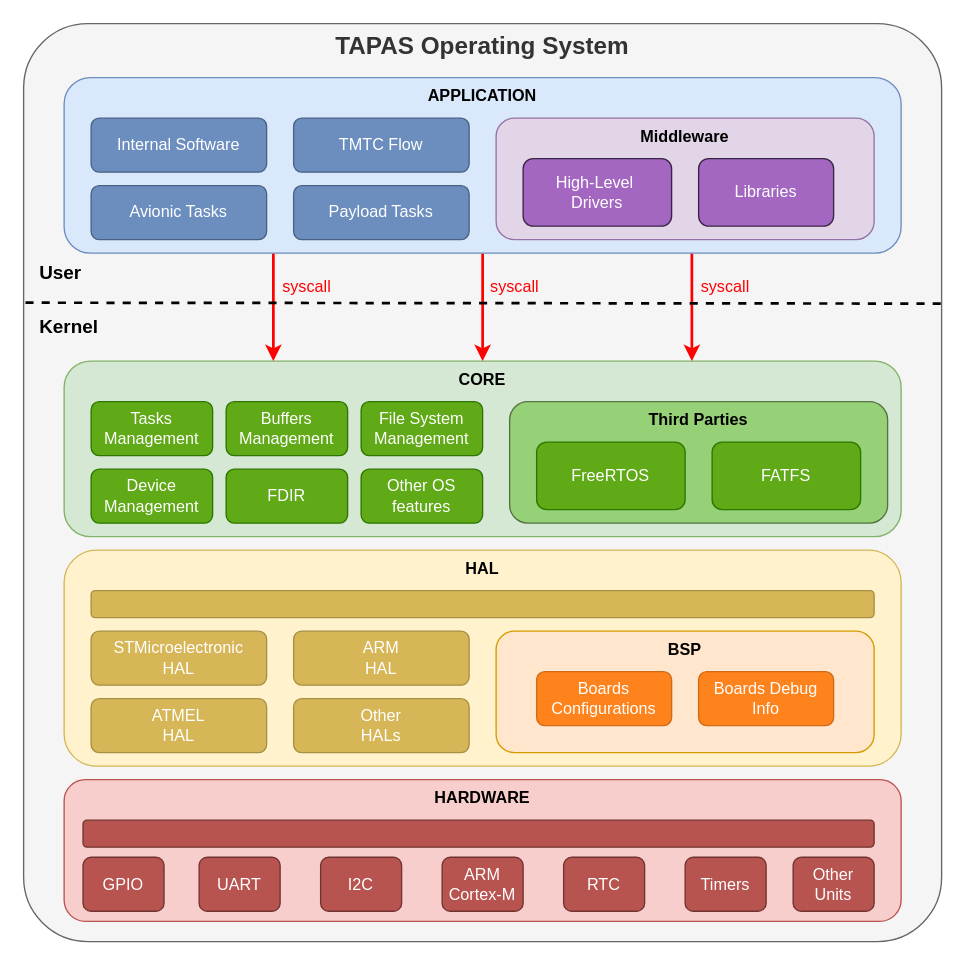
The diagram is 968 pixels wide and 965 high, and some of its shapes have lost their labels. The shapes that lost their labels are listed below. From the top down, each one's centre as x and y in pixels, then its label:
At pixel 482 603: "GENERIC HAL".
At pixel 478 833: "CMSIS".
